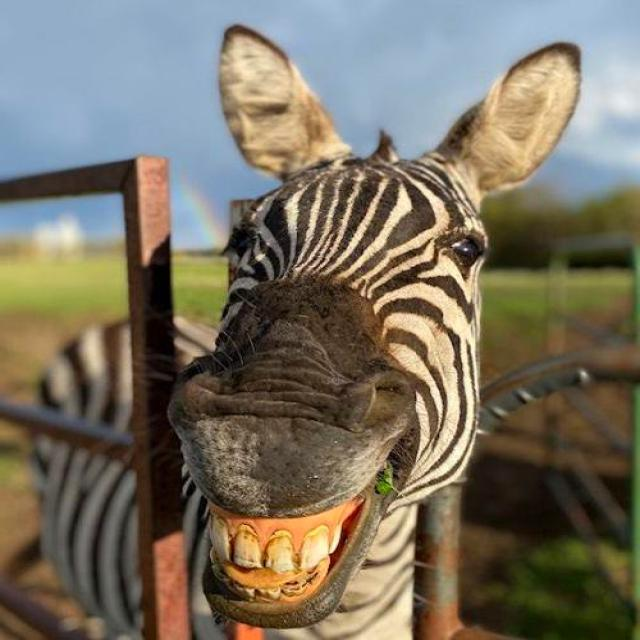zebra: (168, 25, 580, 639), (37, 440, 140, 619), (41, 324, 132, 429)
